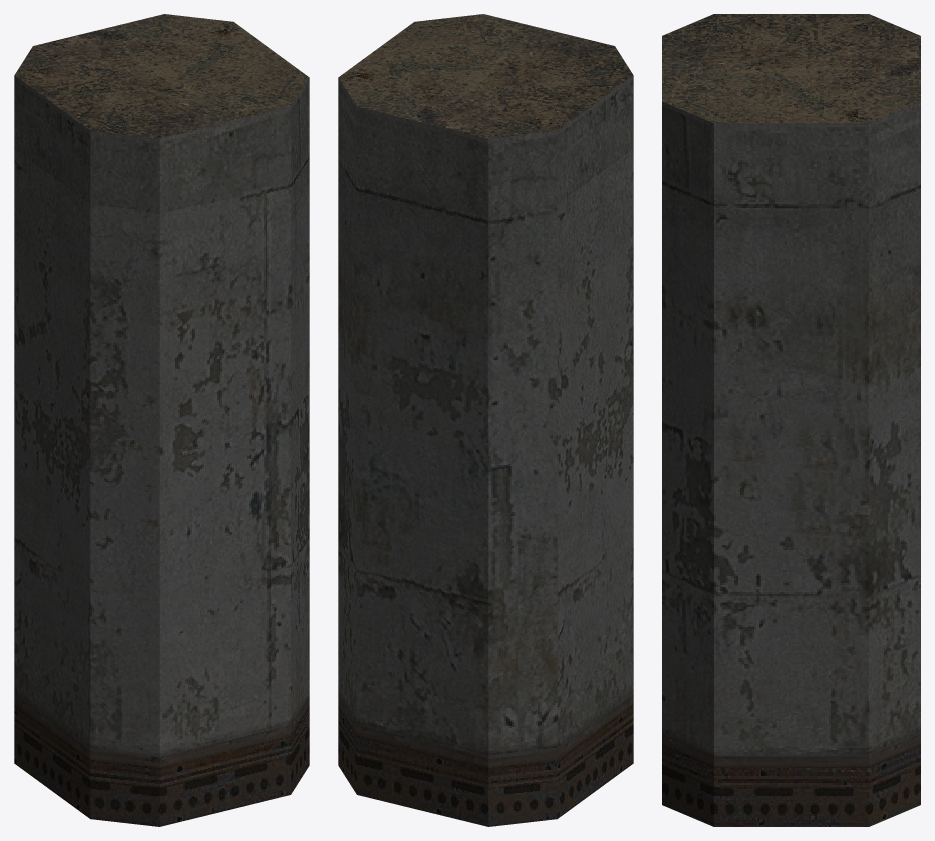
The model's file is pillar_rtx_1.glb.
3 renders of one model, left to right at view 1: azimuth 30°, elevation 25°; view 2: azimuth 150°, elevation 25°; view 3: azimuth 270°, elevation 25°, orthographic. The views are drawn at different scales.
Visible parts, largest first — view 1: pillar_rtx_1; view 2: pillar_rtx_1; view 3: pillar_rtx_1.
Boxes of the visible parts, x1=… form: pillar_rtx_1: x1=14, y1=14, x2=309, y2=826; pillar_rtx_1: x1=338, y1=14, x2=633, y2=826; pillar_rtx_1: x1=662, y1=14, x2=920, y2=826.
Size of the model in its own units: 1 by 3 by 1.
Materials: 2 (2 with a texture image).
